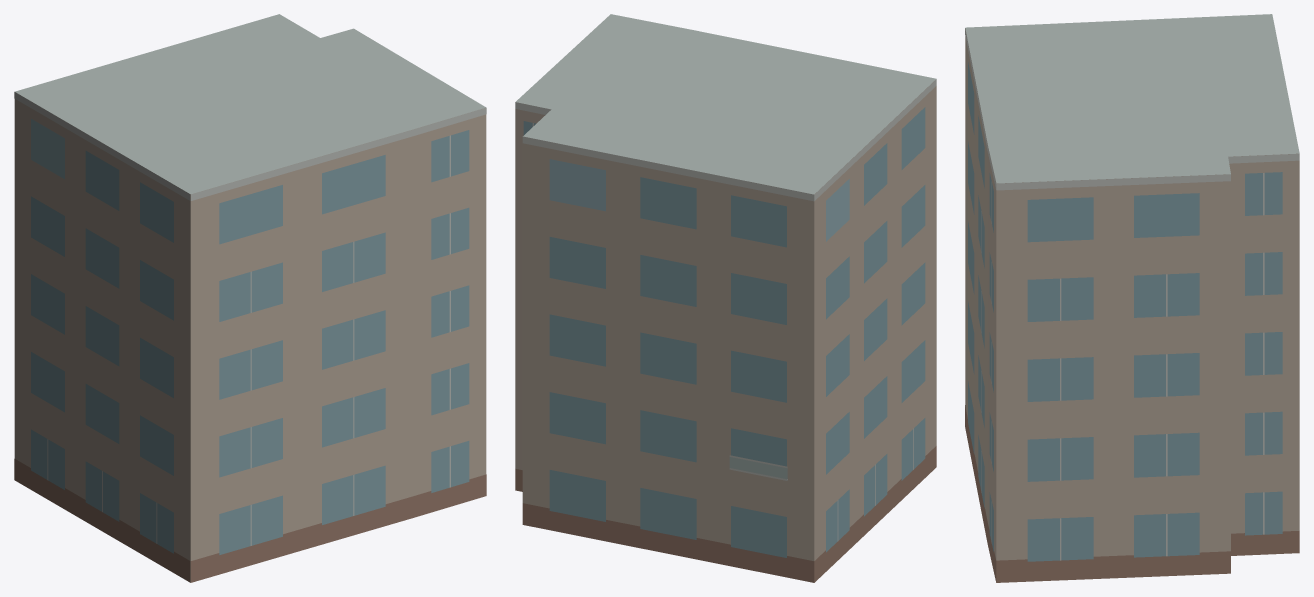
File: survey-upis-32670843.glb
3 renders of one model, left to right at view 1: azimuth 30°, elevation 25°; view 2: azimuth 150°, elevation 25°; view 3: azimuth 270°, elevation 25°, orthographic. The views are drawn at different scales.
Visible parts, largest first — view 1: survey-upis-32670843.tmp; view 2: survey-upis-32670843.tmp; view 3: survey-upis-32670843.tmp.
Boxes of the visible parts, <box> form: survey-upis-32670843.tmp: <box>14,14,486,582</box>; survey-upis-32670843.tmp: <box>515,14,936,582</box>; survey-upis-32670843.tmp: <box>965,14,1299,582</box>.
Bounding box in the file's own units: 12.66 × 13.9 × 10.56.
